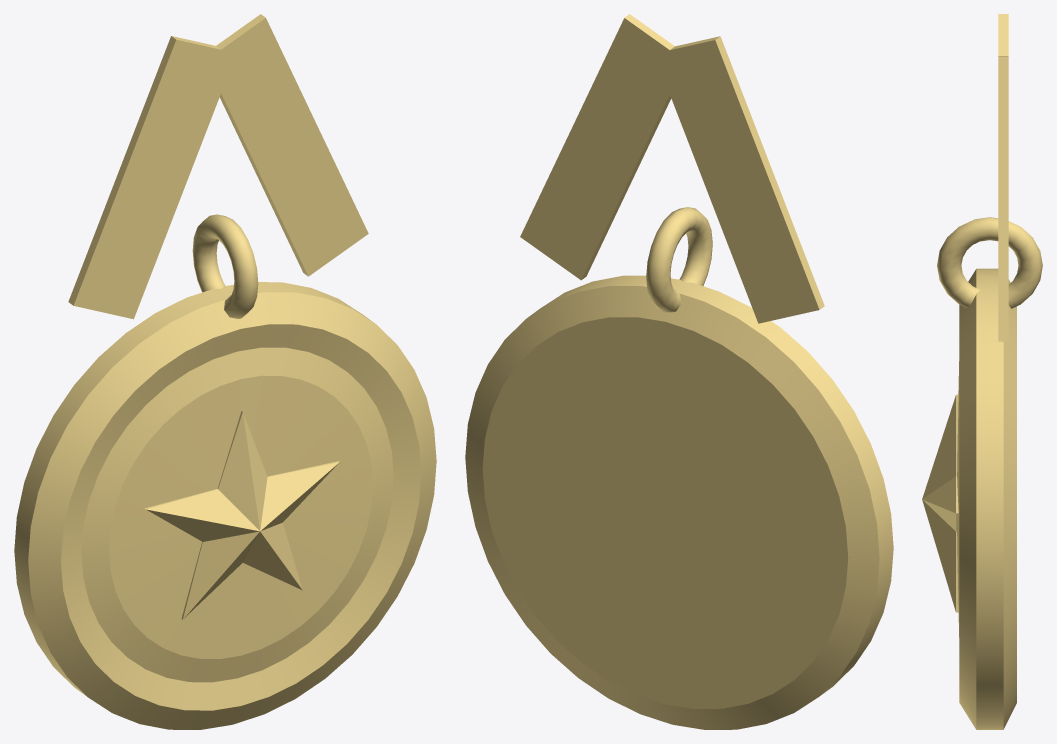
File: medal.glb
3 renders of one model, left to right at view 1: azimuth 30°, elevation 25°; view 2: azimuth 150°, elevation 25°; view 3: azimuth 270°, elevation 25°, orthographic. The views are drawn at different scales.
Visible parts, largest first — view 1: medal; view 2: medal; view 3: medal.
Boxes of the visible parts, bbox=[...] form: medal: bbox=[14, 14, 436, 729]; medal: bbox=[465, 14, 893, 729]; medal: bbox=[922, 14, 1042, 729].
Size of the model in its own units: 0.68 by 1.09 by 0.178.
